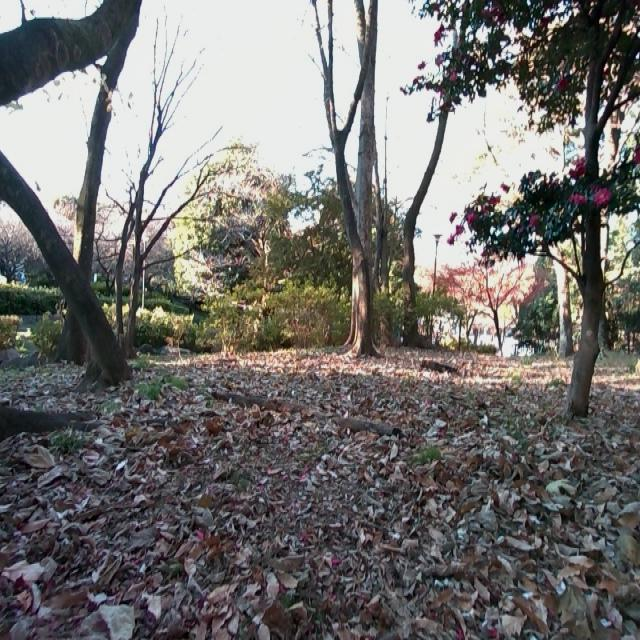tree: (0, 0, 122, 372), (537, 0, 640, 416), (115, 24, 217, 347), (308, 0, 392, 344), (64, 0, 142, 340), (392, 1, 467, 348)
